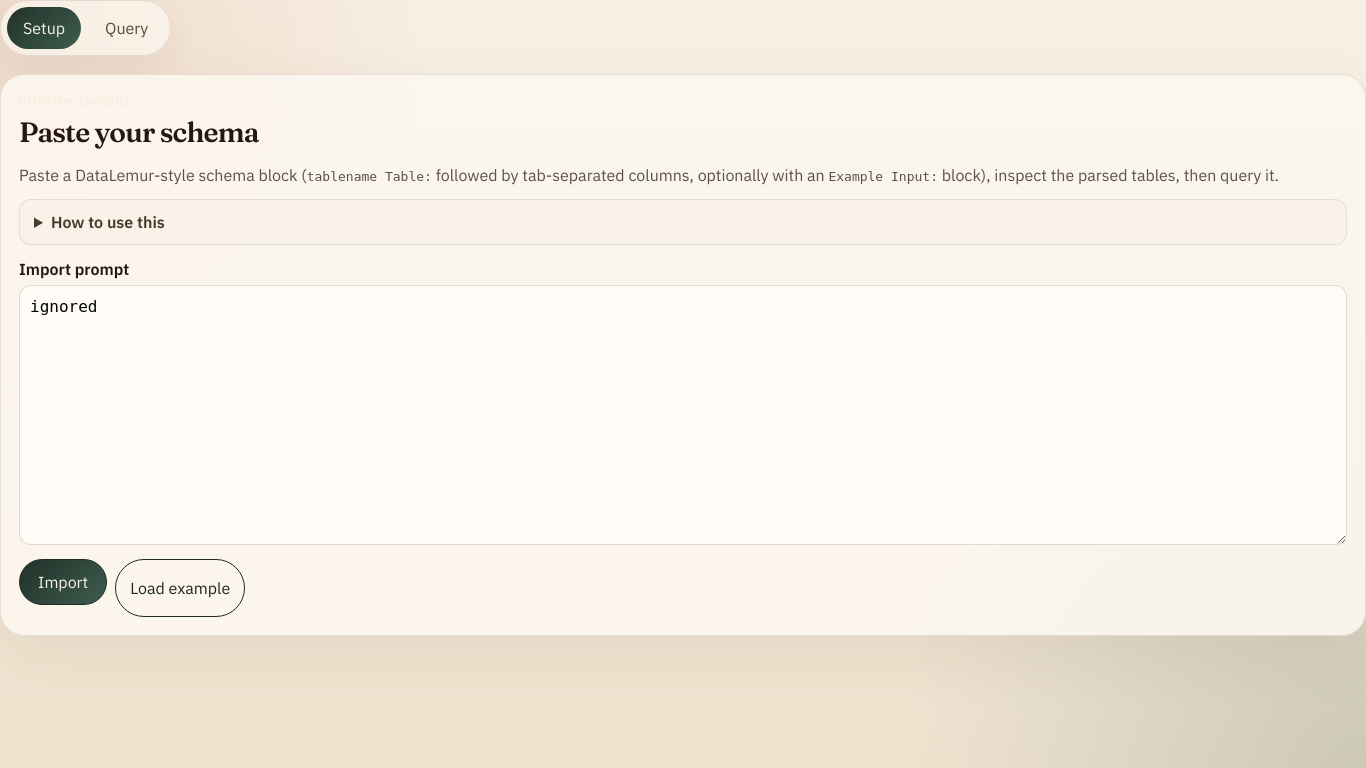
Scenario: SqlPlaygroundApp › keeps invalid parsed import data out of the applied dataset
Click the button "Import": (63, 582) [19,558,107,604]
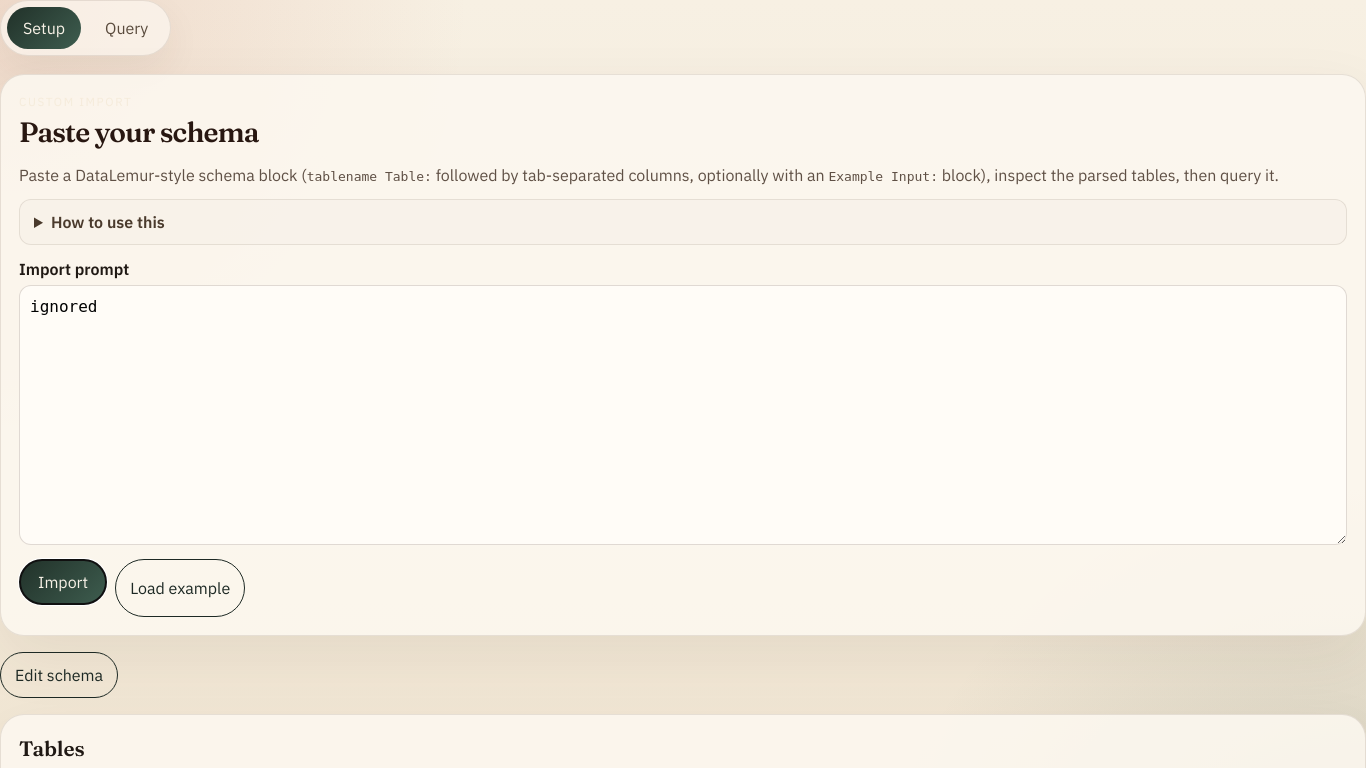
Check: the heading "Tables" is shown, box [19,736,85,760]
